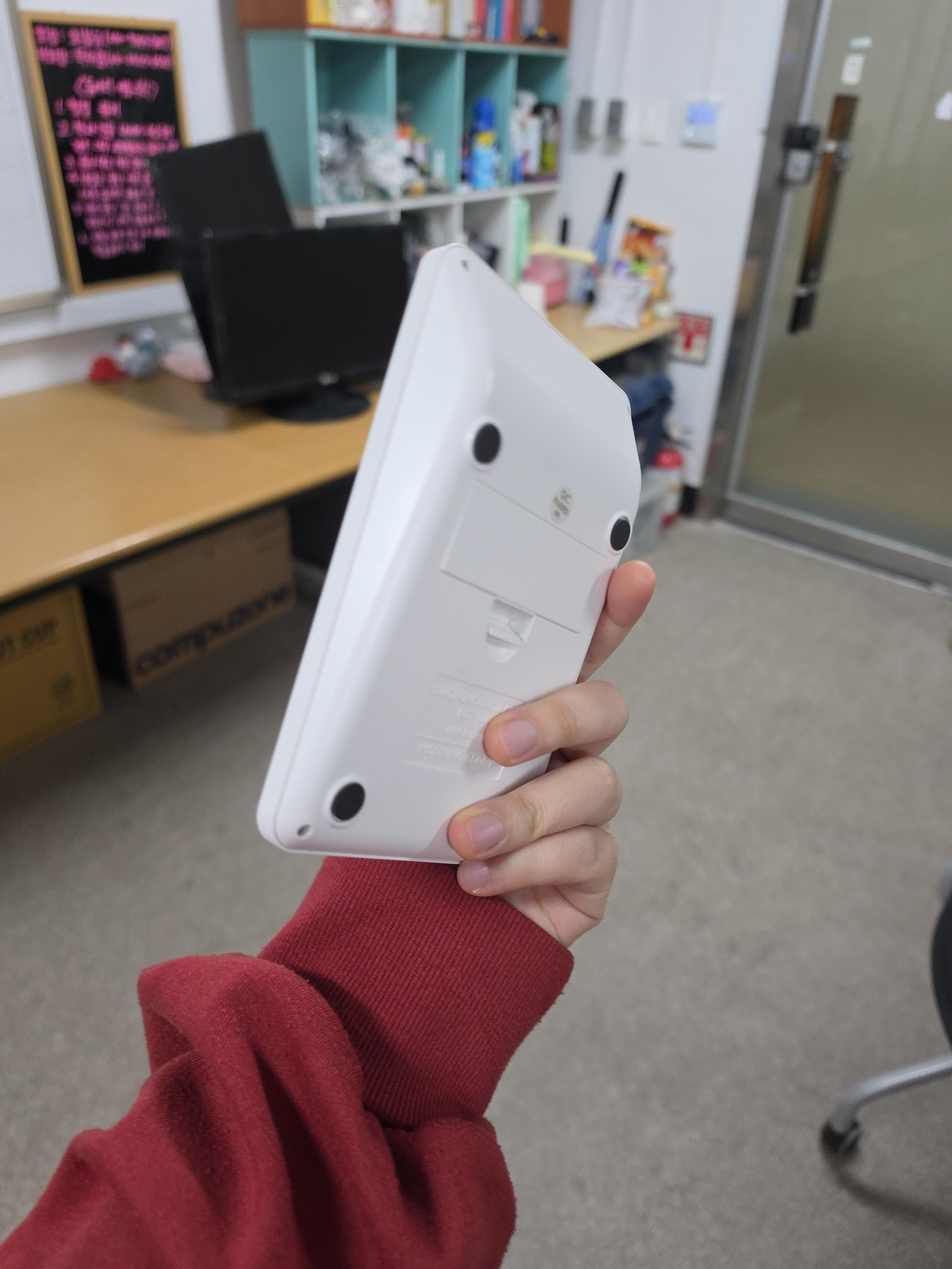calculator: (256, 242, 643, 865)
